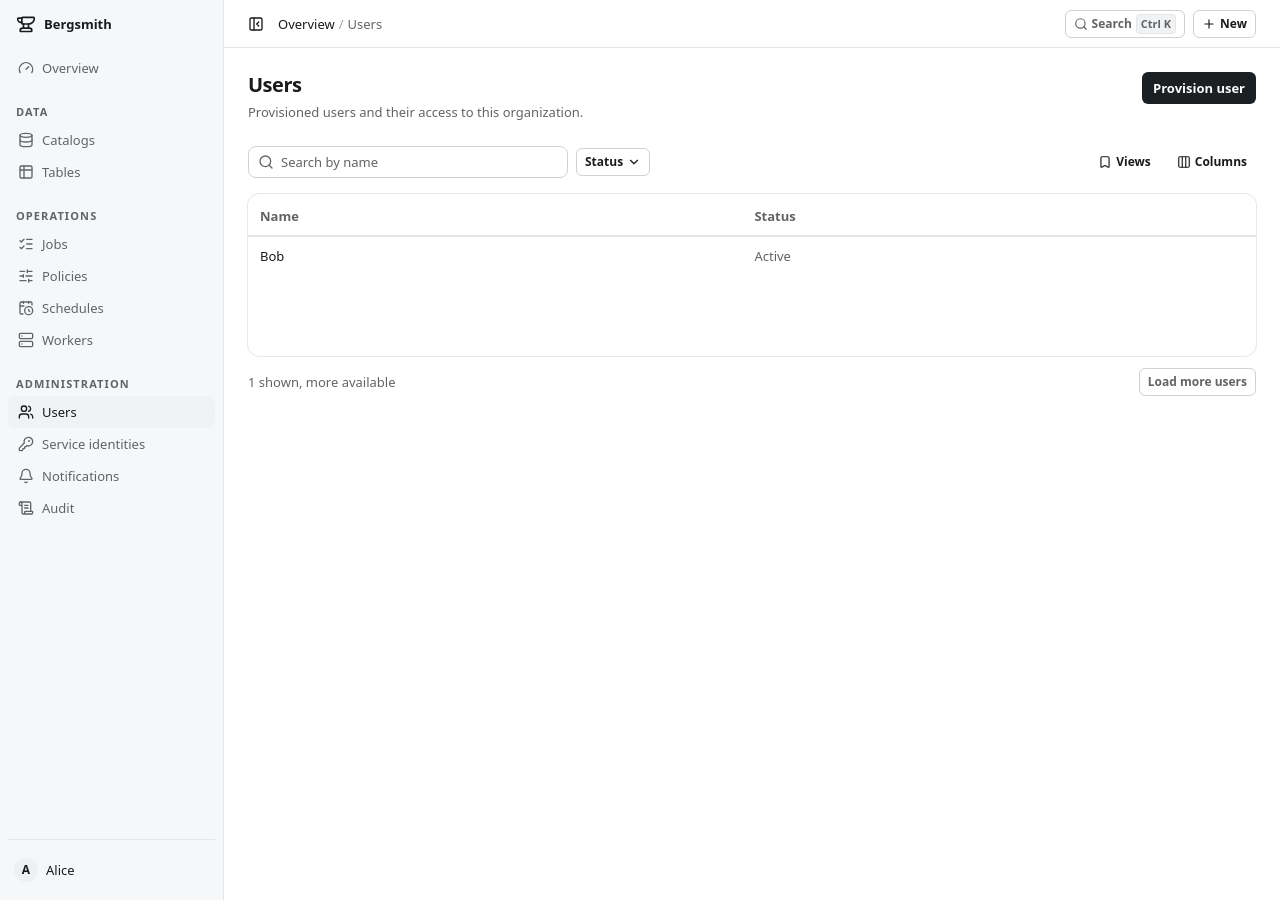
follows principal cursors and restricts the directory to users
Click the button "Load more users": coordinates (1197, 382) [1139, 368, 1256, 396]
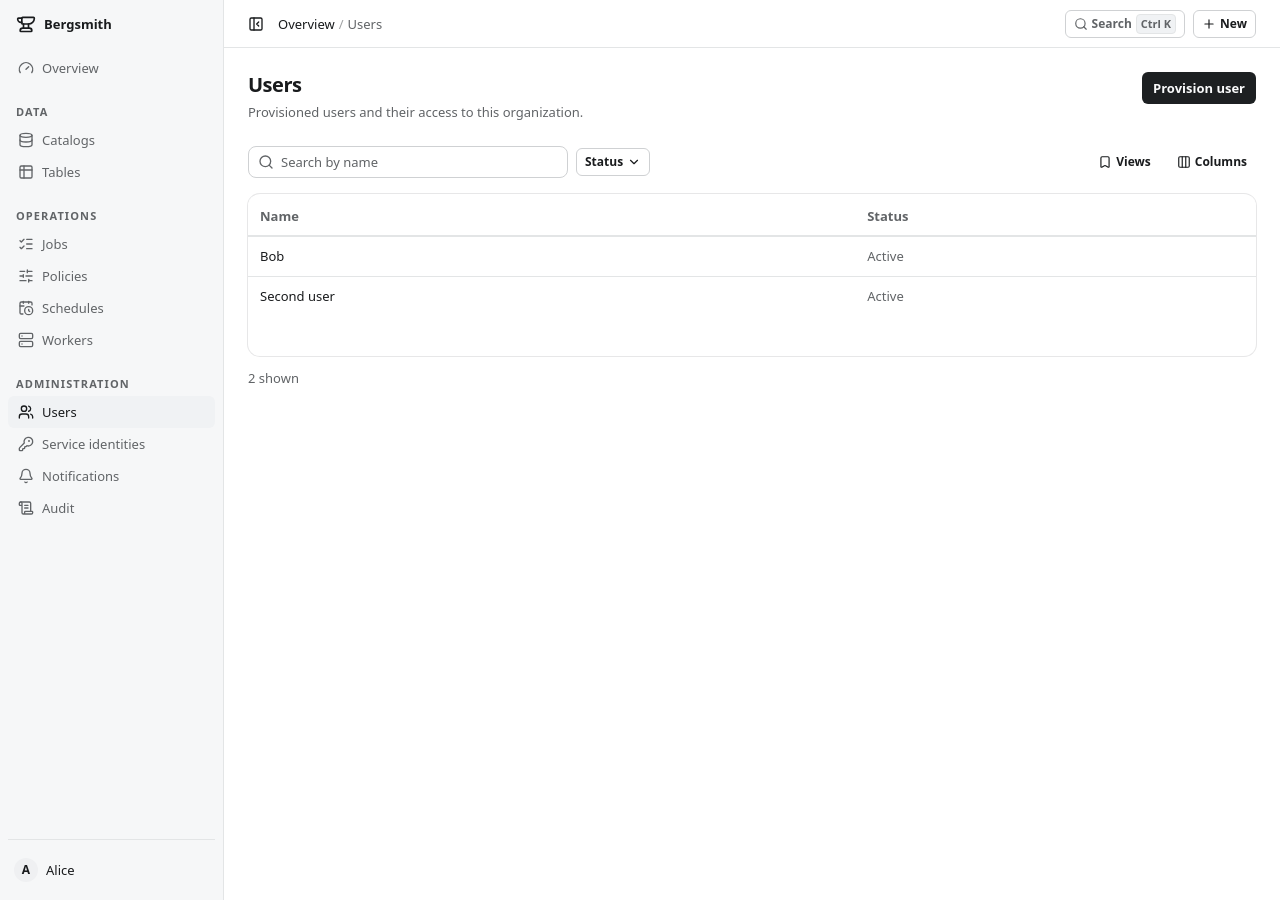
Result: the link "Second user" is shown at [260, 287, 335, 305]
